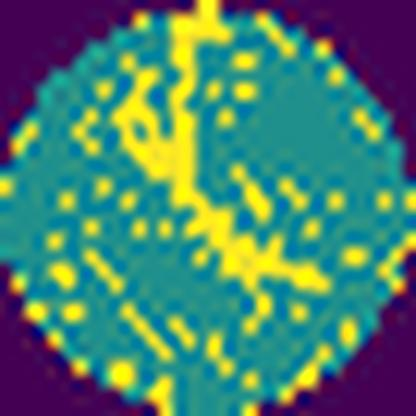Scratch: (106, 0, 335, 339)
